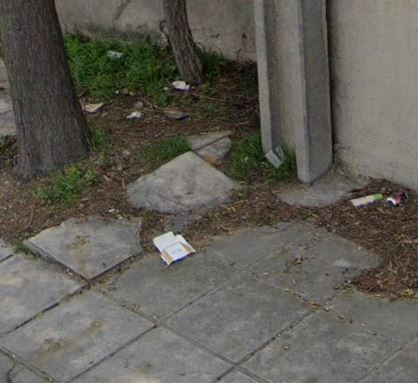trash: (121, 72, 193, 123), (345, 182, 406, 221), (147, 228, 196, 274), (91, 48, 126, 64)
